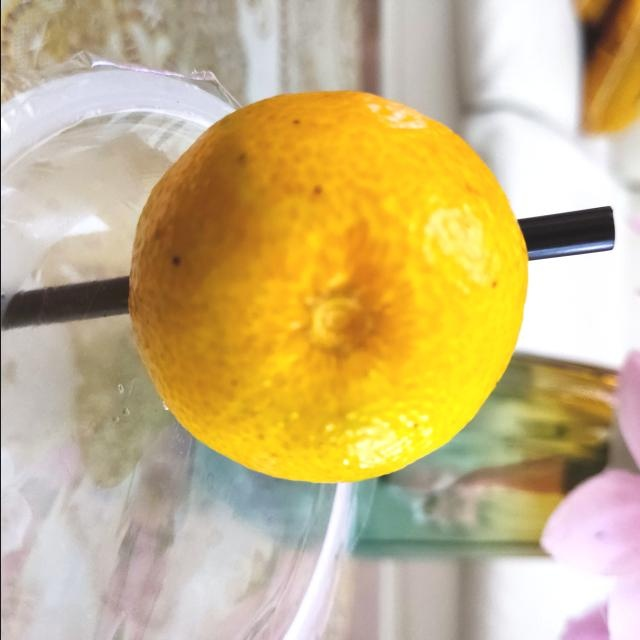agrume: (131, 88, 531, 484)
